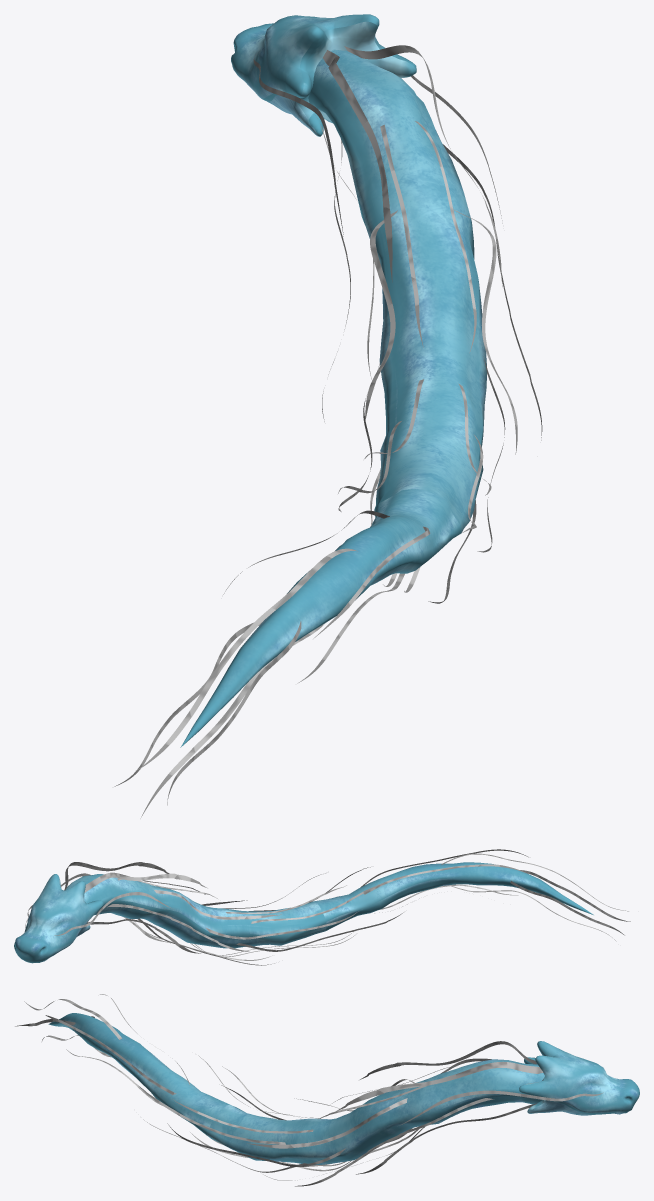
The model's file is dragon.obj.
The picture shows the model from 3 angles, top to bottom: view 1: azimuth 30°, elevation 25°; view 2: azimuth 150°, elevation 25°; view 3: azimuth 270°, elevation 25°; orthographic projection. The views are drawn at different scales.
Visible parts, largest first — view 1: polySurface15, polySurface15.001; view 2: polySurface15, polySurface15.001; view 3: polySurface15, polySurface15.001.
Part boxes in pixels (left/top/right/bottom): polySurface15: left=180, top=14, right=486, bottom=747; polySurface15.001: left=114, top=45, right=542, bottom=818; polySurface15: left=14, top=862, right=593, bottom=963; polySurface15.001: left=25, top=849, right=630, bottom=965; polySurface15: left=48, top=1013, right=639, bottom=1165; polySurface15.001: left=15, top=994, right=603, bottom=1186.
Bounding box in the file's own units: 2.37 × 0.9504 × 3.15.
2 materials, 2 textured.
